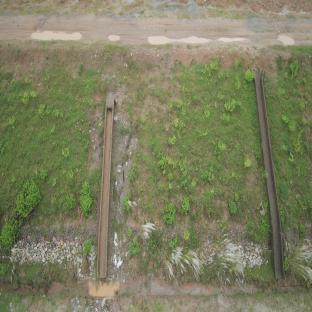rock_toe: (186, 236, 270, 281), (10, 237, 94, 278)
slope_drain: (254, 68, 285, 280), (97, 91, 116, 279)
toe_drain: (1, 278, 308, 299)
